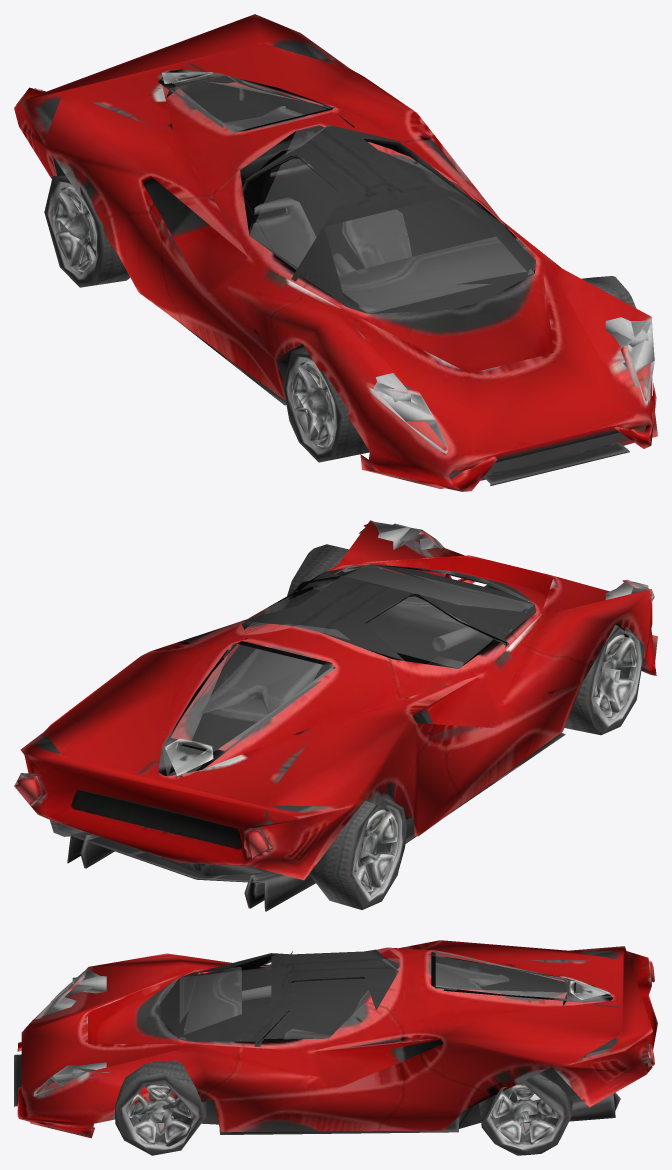
The model's file is sports-car.lod0.glb.
3 views of the same model, one above another, from view 1: azimuth 30°, elevation 25°; view 2: azimuth 150°, elevation 25°; view 3: azimuth 270°, elevation 25° (orthographic). The views are drawn at different scales.
Visible parts, largest first — view 1: Object_2; view 2: Object_2; view 3: Object_2.
Part boxes in pixels (x1,y1,x2,y2): Object_2: (14, 14, 657, 491); Object_2: (14, 520, 657, 911); Object_2: (14, 940, 657, 1155).
Size of the model in its own units: 1.98 by 1.09 by 4.59.
1 material, 1 textured.
